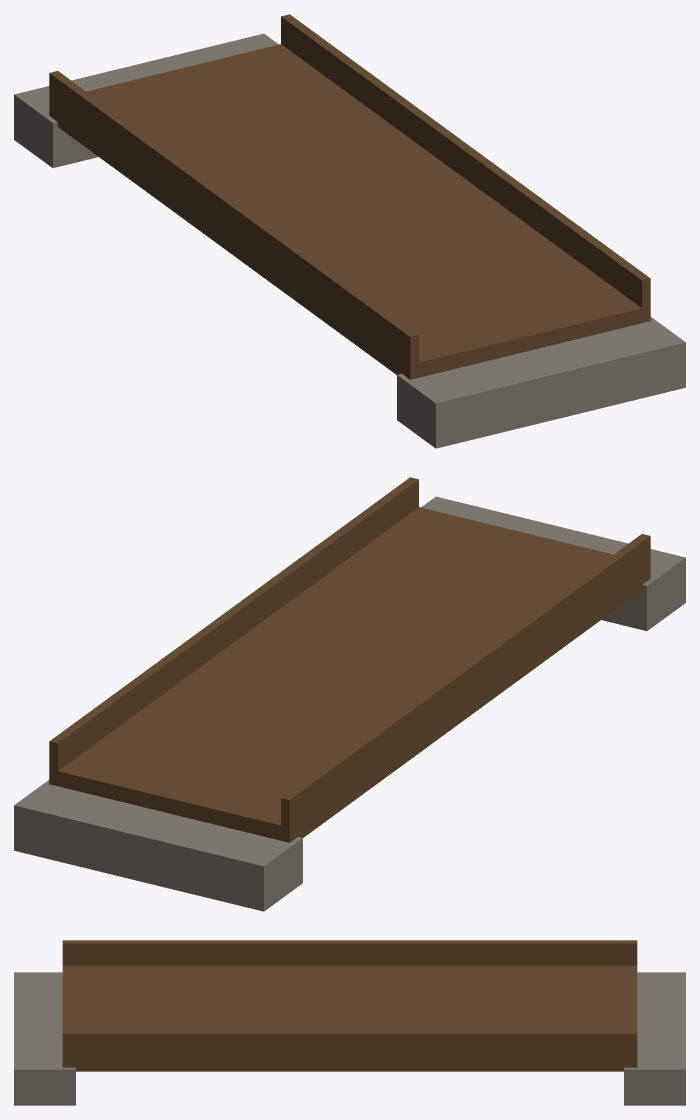
Rendered from RF_Prop_Bridge_Intact.glb.
The picture shows the model from 3 angles, top to bottom: view 1: azimuth 30°, elevation 25°; view 2: azimuth 150°, elevation 25°; view 3: azimuth 270°, elevation 25°; orthographic projection. The views are drawn at different scales.
Visible parts, largest first — view 1: RF_Prop_Bridge_Intact; view 2: RF_Prop_Bridge_Intact; view 3: RF_Prop_Bridge_Intact.
Part boxes in pixels (x1,y1,x2,y2): RF_Prop_Bridge_Intact: (14,14,685,448); RF_Prop_Bridge_Intact: (14,477,685,911); RF_Prop_Bridge_Intact: (14,940,685,1105).
Bounding box in the file's own units: 5.2 × 1.75 × 15.2.
